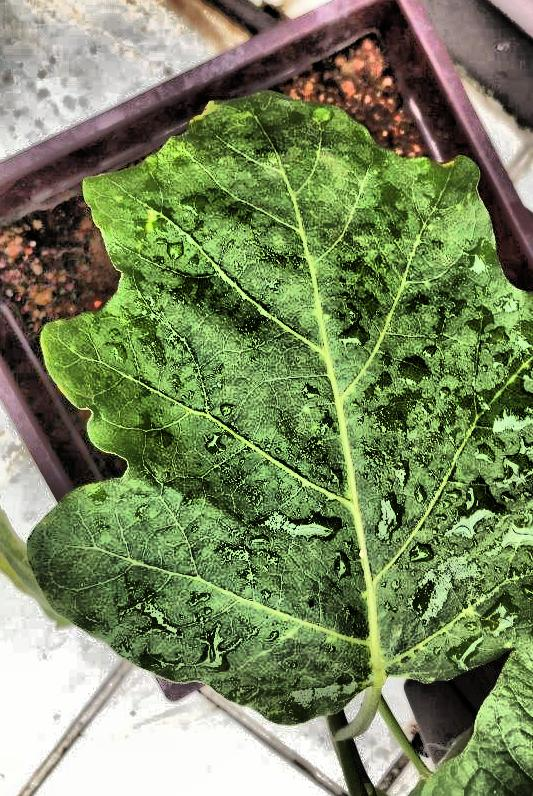HEALTHY: (36, 0, 533, 560)
